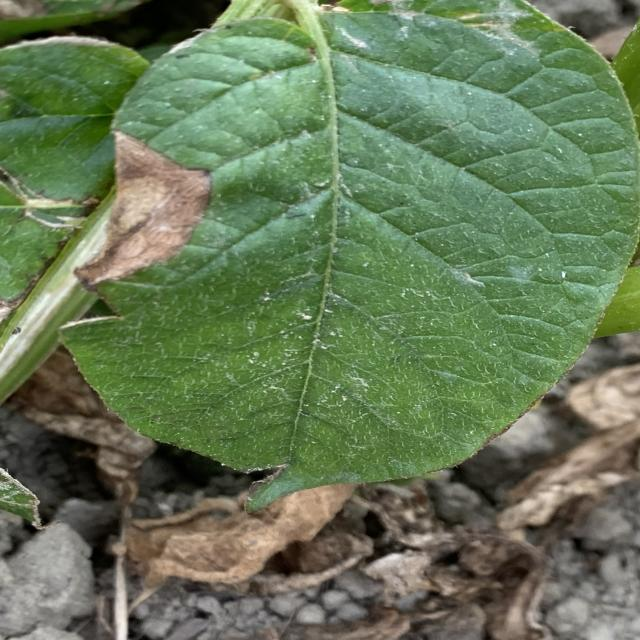lateblight: (75, 131, 212, 288)
